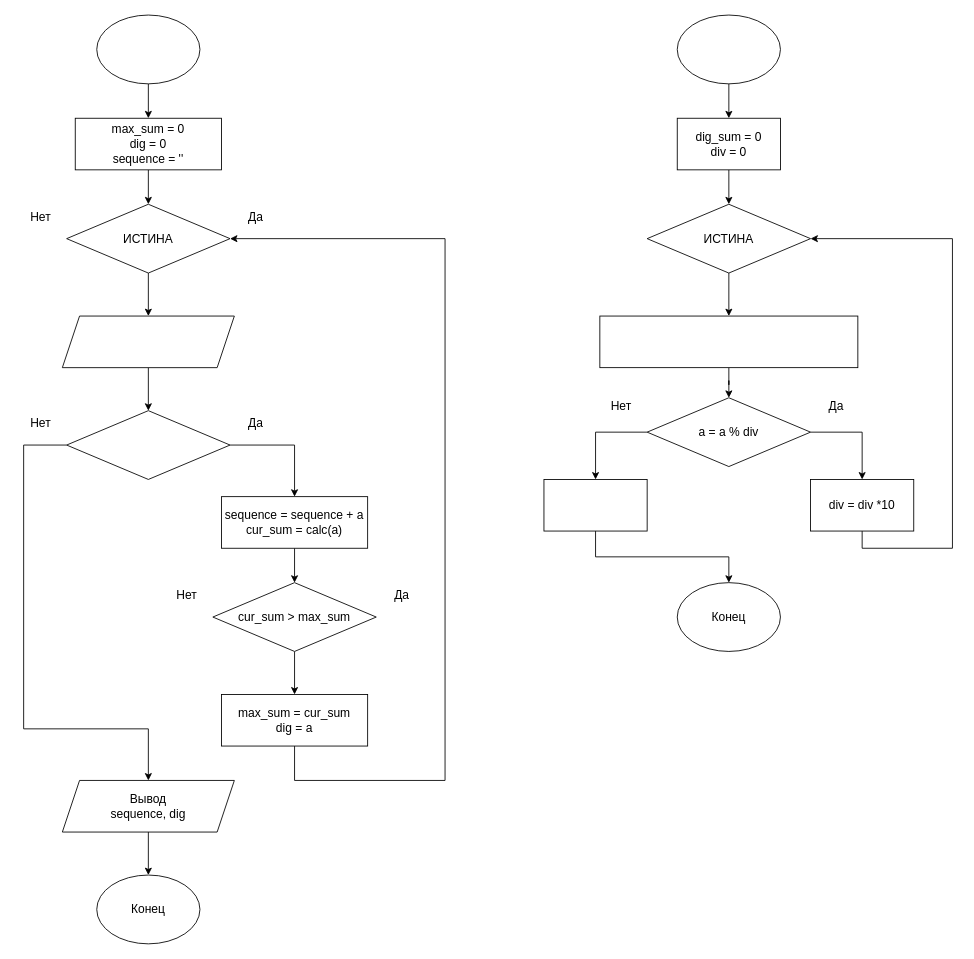
This 974x959 diagram has some shape labels left out. The shapes that lost their labels are listed below. From the top down, each one's centre as x and y in pixels, then its label:
[148,49]: Начало
[728,49]: calc(a)
[147,341]: Ввод a
[728,341]: dig_sum = dig_sum + (a % div) // (div / 10)
[148,444]: a != 0
[595,505]: return dig_sum
